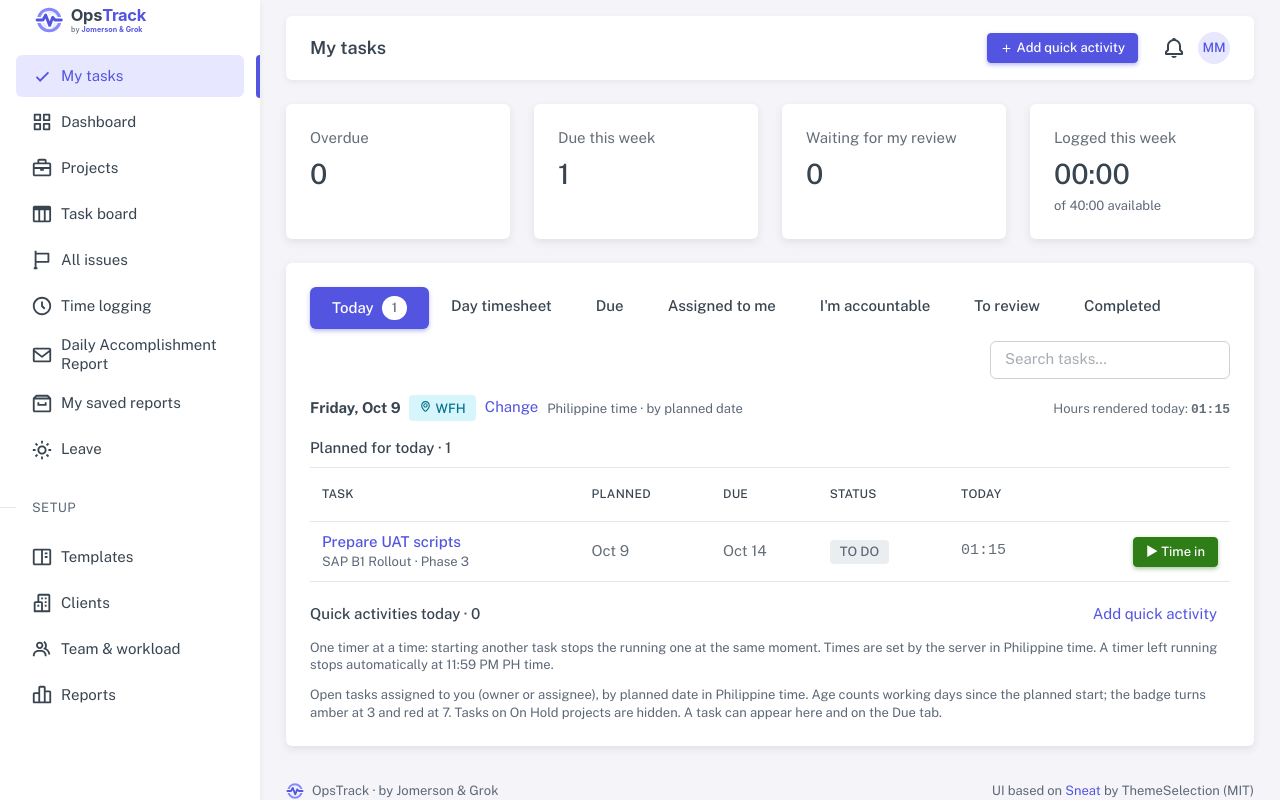
it: FR-ACT-28: errors under their fields › names a field the form does not show instead of a bare "Some fields are invalid"
Click the button with aria-label "Time in on Prepare UAT scripts".
click(1176, 552)  # box [1133,536,1218,566]
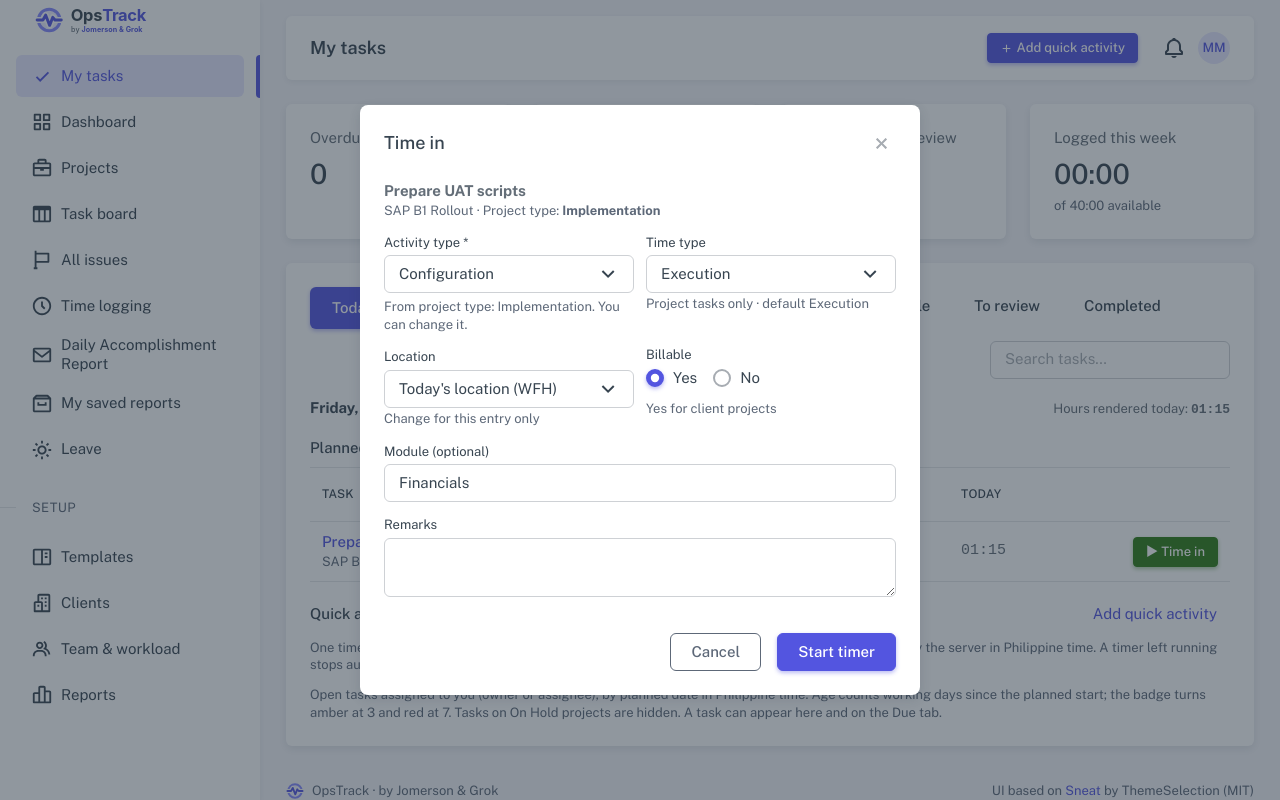
Click the button "Start timer".
click(837, 652)  # box [777,633,896,671]
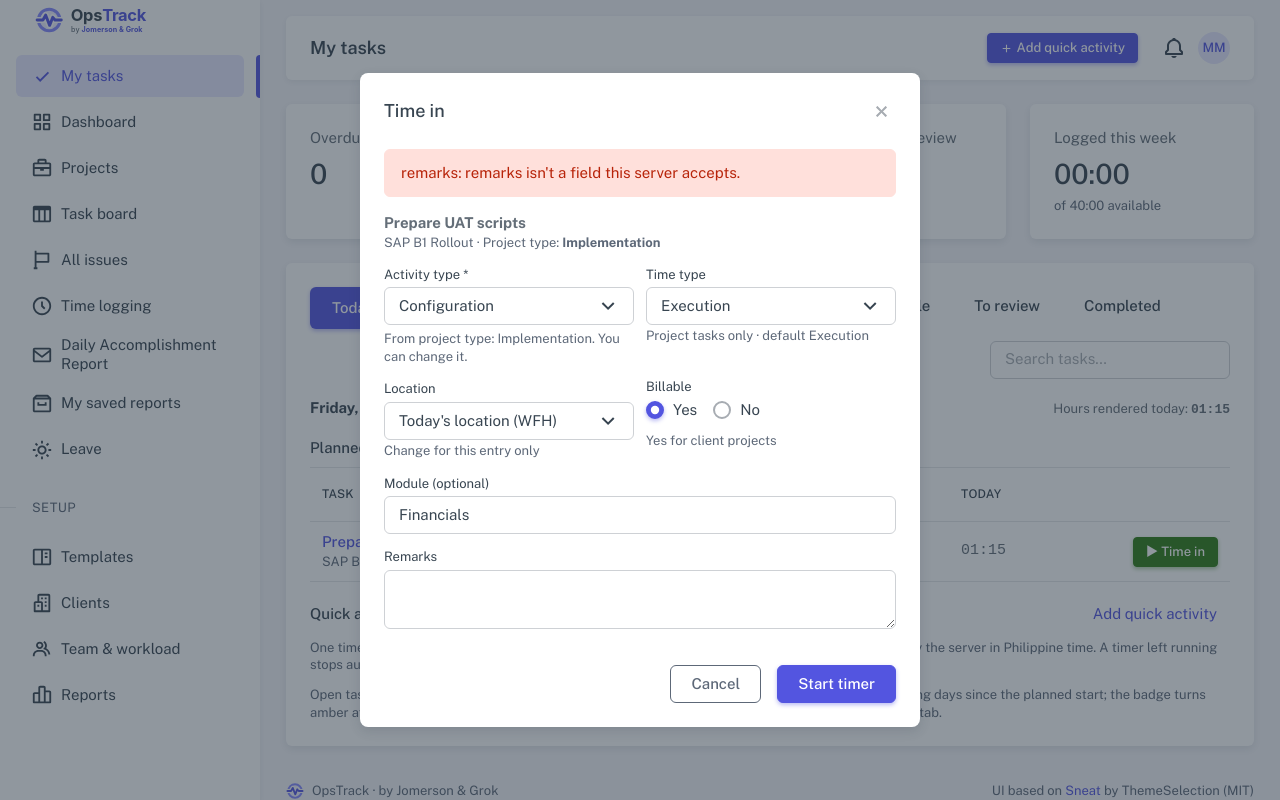
Check: the text "remarks: remarks isn't a field this server accepts." is shown, box [384,149,896,197]
